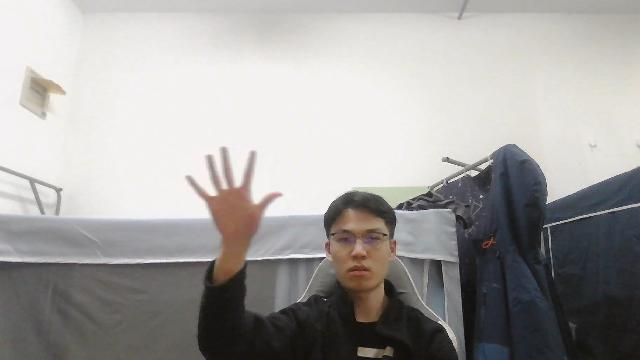five: (184, 147, 282, 245)
